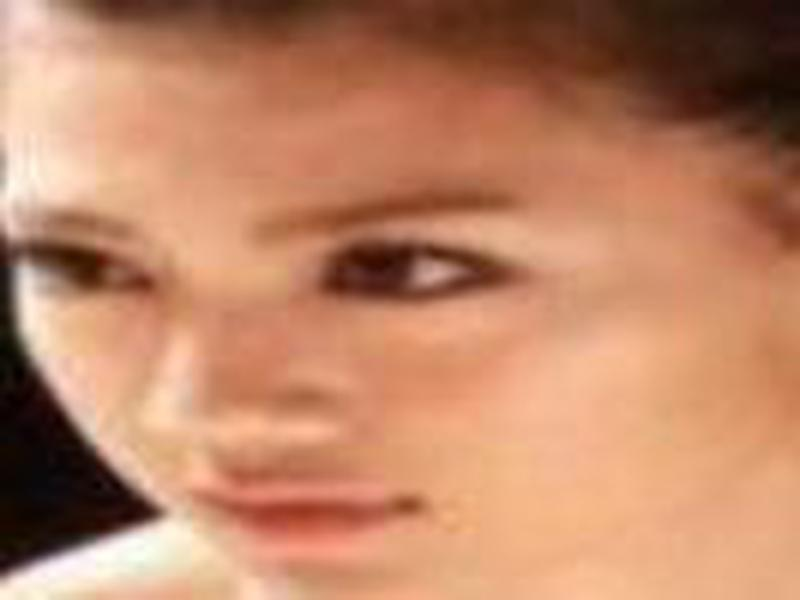without_mask: (6, 6, 700, 600)
